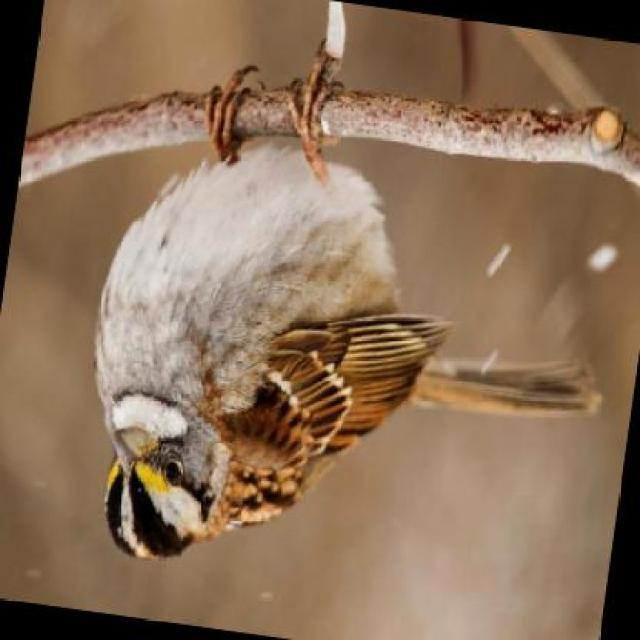Bird: (90, 59, 607, 571)
